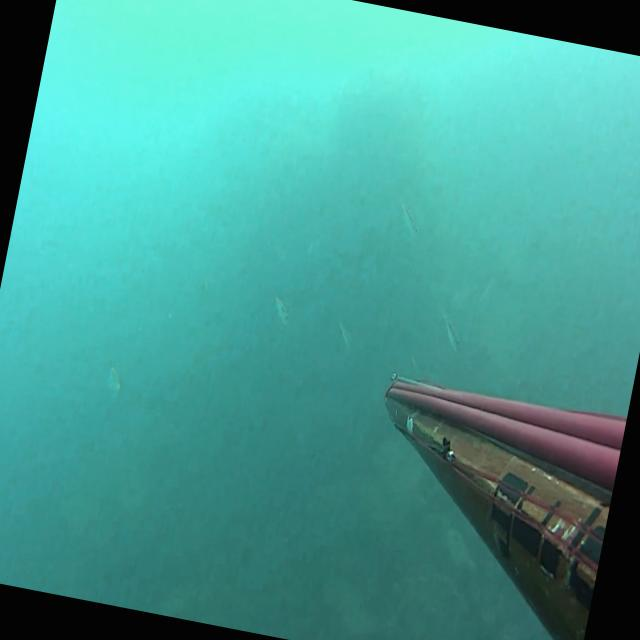Balon Baligi: (438, 314, 465, 354), (102, 358, 125, 399), (396, 202, 422, 238), (271, 294, 292, 326), (336, 322, 354, 347)
